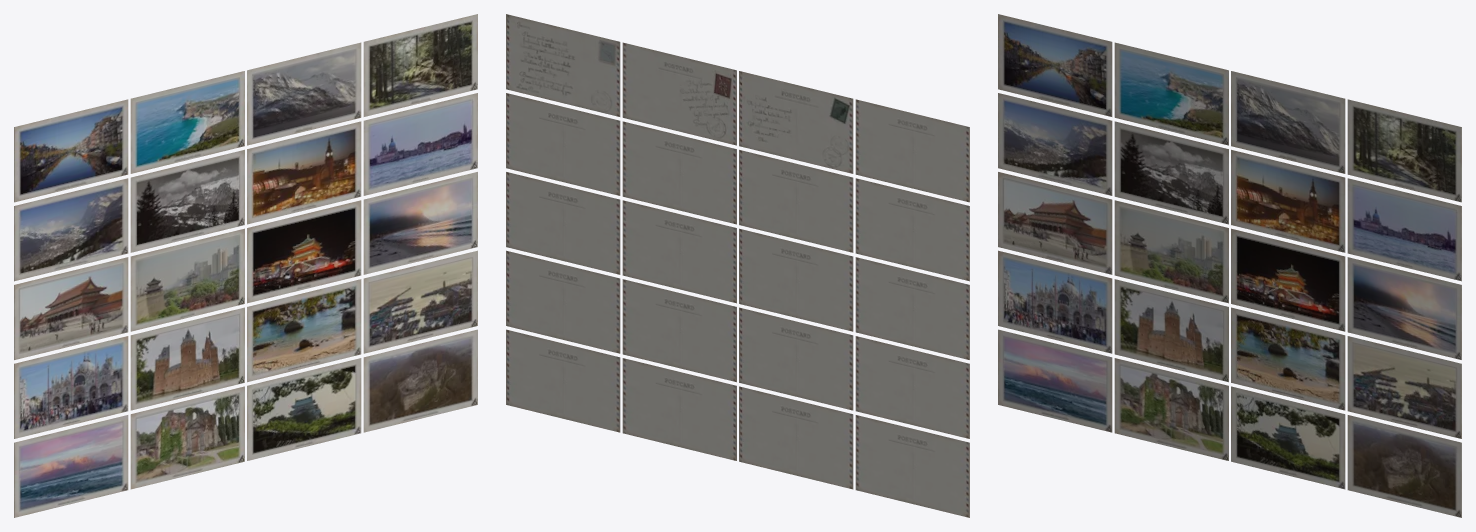
File: relic-postcards.glb
3 renders of one model, left to right at view 1: azimuth 30°, elevation 25°; view 2: azimuth 150°, elevation 25°; view 3: azimuth 330°, elevation 25°, orthographic.
Parts seen in each view (by area): view 1: postcard_01; view 2: postcard_01; view 3: postcard_01.
Part boxes in pixels (x1=…): postcard_01: x1=14, y1=14, x2=477, y2=517; postcard_01: x1=506, y1=14, x2=969, y2=517; postcard_01: x1=998, y1=14, x2=1461, y2=517.
Size of the model in its own units: 0.6767 by 0.545 by 0.000165.
Materials: 1 (1 with a texture image).
